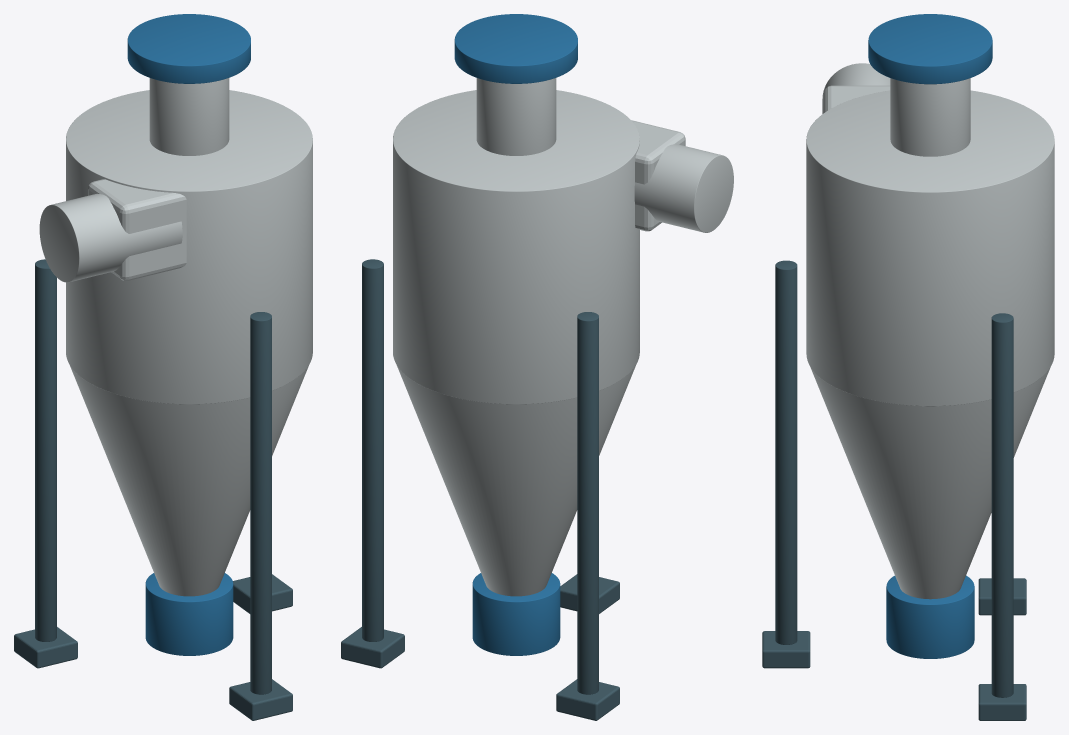
Rendered from cyclone_separator.glb.
The picture shows the model from 3 angles, left to right: view 1: azimuth 30°, elevation 25°; view 2: azimuth 150°, elevation 25°; view 3: azimuth 270°, elevation 25°; orthographic projection.
Visible parts, largest first — view 1: CYCLONE_BARREL, CYCLONE_CONE, LEG_270, LEG_150, TANGENTIAL_INLET, TOP_FLANGE, VORTEX_FINDER, DUST_AIRLOCK, INLET_TRANSITION, FOOT_270, FOOT_150, FOOT_30; view 2: CYCLONE_BARREL, CYCLONE_CONE, LEG_30, LEG_150, TOP_FLANGE, TANGENTIAL_INLET, VORTEX_FINDER, DUST_AIRLOCK, INLET_TRANSITION, FOOT_150, FOOT_30, FOOT_270; view 3: CYCLONE_BARREL, CYCLONE_CONE, LEG_270, LEG_30, TOP_FLANGE, VORTEX_FINDER, DUST_AIRLOCK, FOOT_270, FOOT_30, TANGENTIAL_INLET, FOOT_150, INLET_TRANSITION.
Boxes of the visible parts, x1,y1,x2,y2 form: CYCLONE_BARREL: (66,90,312,404); CYCLONE_CONE: (70,365,308,596); LEG_270: (250,312,271,694); LEG_150: (35,259,56,641); TANGENTIAL_INLET: (39,193,182,282); TOP_FLANGE: (127,14,250,83); VORTEX_FINDER: (149,78,229,155); DUST_AIRLOCK: (145,573,233,655); INLET_TRANSITION: (88,179,186,280); FOOT_270: (229,679,292,720); FOOT_150: (14,627,77,668); FOOT_30: (233,574,292,613); CYCLONE_BARREL: (393,90,639,404); CYCLONE_CONE: (396,365,635,596); LEG_30: (362,259,383,641); LEG_150: (577,312,598,694); TOP_FLANGE: (454,14,577,83); TANGENTIAL_INLET: (634,144,733,232); VORTEX_FINDER: (476,78,556,155); DUST_AIRLOCK: (472,573,560,655); INLET_TRANSITION: (631,120,685,231); FOOT_150: (556,679,619,720); FOOT_30: (341,627,404,668); FOOT_270: (560,574,619,613); CYCLONE_BARREL: (806,90,1054,406); CYCLONE_CONE: (810,367,1050,599); LEG_270: (775,260,797,644); LEG_30: (991,313,1013,697); TOP_FLANGE: (868,14,992,84); VORTEX_FINDER: (890,78,970,156); DUST_AIRLOCK: (886,575,974,658); FOOT_270: (762,631,810,668); FOOT_30: (978,684,1026,720); TANGENTIAL_INLET: (822,63,890,113); FOOT_150: (978,578,1026,615); INLET_TRANSITION: (824,85,890,112).
Bounding box in the file's own units: 1.69 × 3.41 × 1.46.
